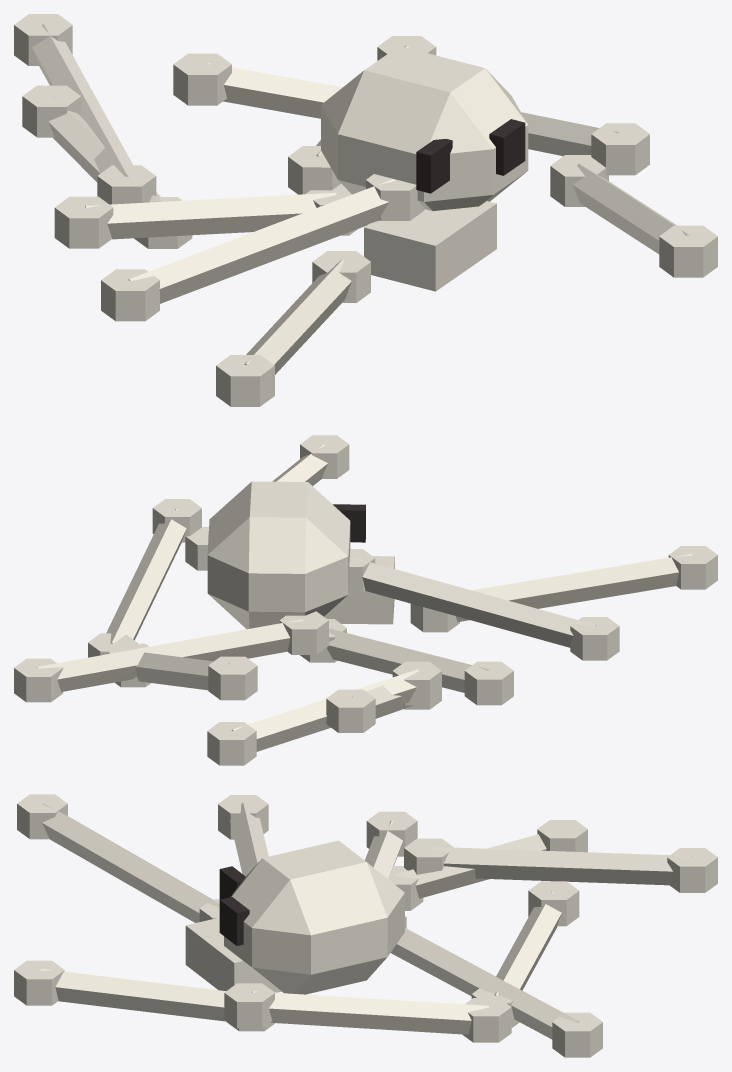
Rendered from bone_pile.obj.
3 views of the same model, one above another, from view 1: azimuth 30°, elevation 25°; view 2: azimuth 150°, elevation 25°; view 3: azimuth 270°, elevation 25° (orthographic). The views are drawn at different scales.
Visible parts, largest first — view 1: bone_pile; view 2: bone_pile; view 3: bone_pile.
Part boxes in pixels (x1=…): bone_pile: x1=14, y1=14, x2=717, y2=406; bone_pile: x1=14, y1=435, x2=717, y2=765; bone_pile: x1=14, y1=794, x2=717, y2=1057.
Bounding box in the file's own units: 0.7411 × 0.2 × 0.9695.
